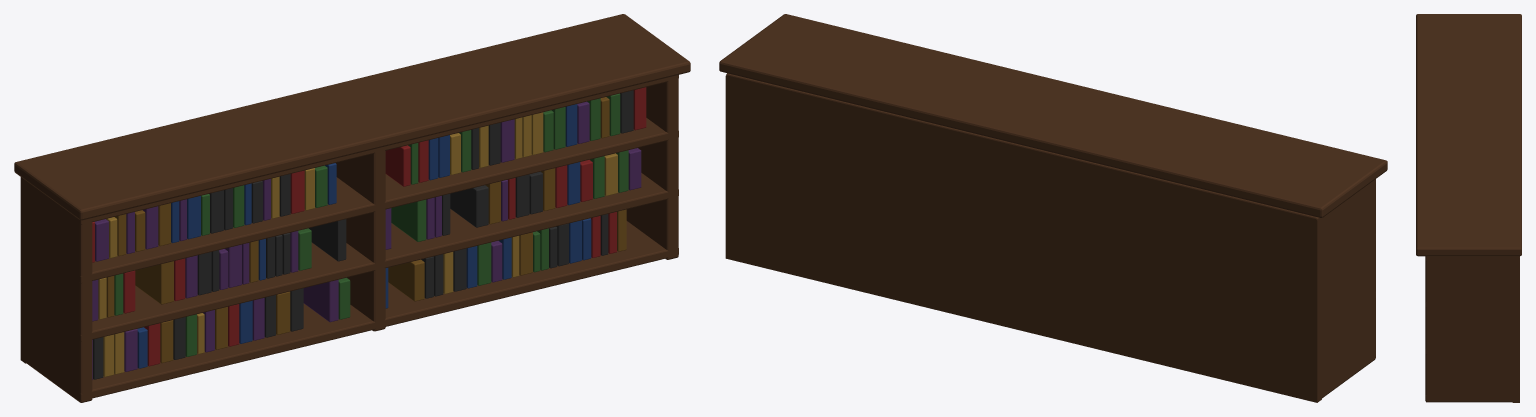
File: bookcase.glb
The picture shows the model from 3 angles, left to right: view 1: azimuth 30°, elevation 25°; view 2: azimuth 150°, elevation 25°; view 3: azimuth 270°, elevation 25°; orthographic projection. The views are drawn at different scales.
Parts seen in each view (by area): view 1: bookcase; view 2: bookcase; view 3: bookcase.
Boxes of the visible parts, bbox=[...] form: bookcase: bbox=[14, 14, 690, 402]; bookcase: bbox=[719, 14, 1387, 402]; bookcase: bbox=[1416, 14, 1521, 402].
Bounding box in the file's own units: 2.94 × 0.915 × 0.56.
